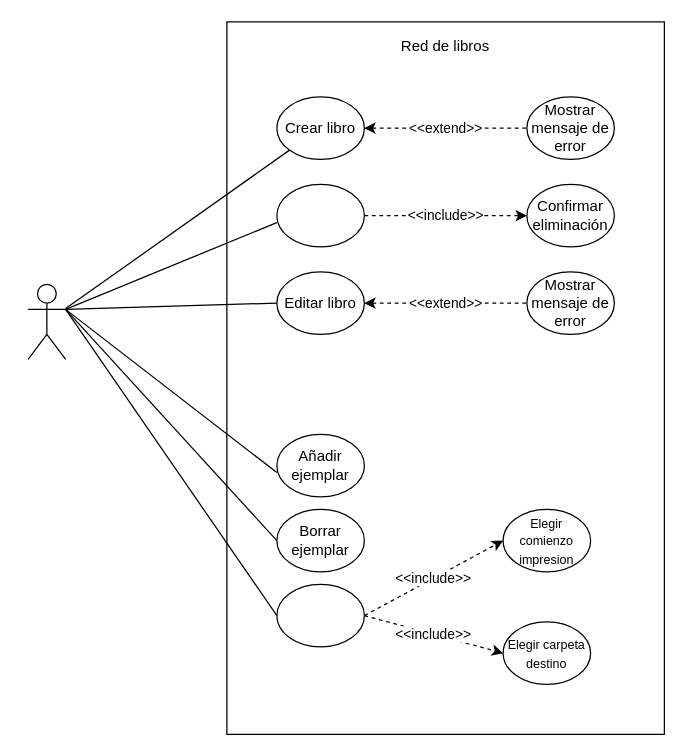
This 686x756 diagram has some shape labels left out. The box of each missing label's shape, as (x1, y1, x2, y2) in pixels:
Borrar libro: (276, 183, 364, 247)
Imprimir codigo de ejemplares: (276, 583, 364, 647)
Usuario: (27, 283, 66, 359)
